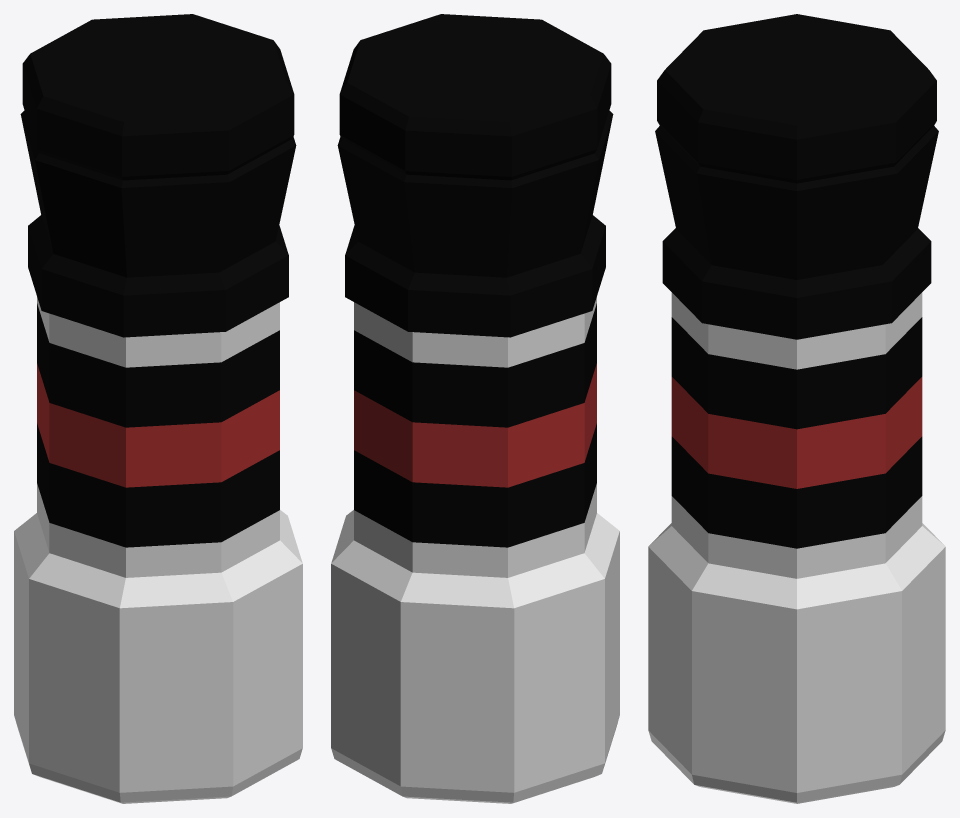
The model's file is Ma_Salt.fbx.
3 views of the same model, side by side, from view 1: azimuth 30°, elevation 25°; view 2: azimuth 150°, elevation 25°; view 3: azimuth 270°, elevation 25° (orthographic).
Visible parts, largest first — view 1: Ma_Salt; view 2: Ma_Salt; view 3: Ma_Salt.
Boxes of the visible parts, bbox=[...] form: Ma_Salt: bbox=[14, 14, 302, 803]; Ma_Salt: bbox=[331, 14, 619, 803]; Ma_Salt: bbox=[648, 14, 945, 803].
Bounding box in the file's own units: 40.47 × 40.47 × 102.
